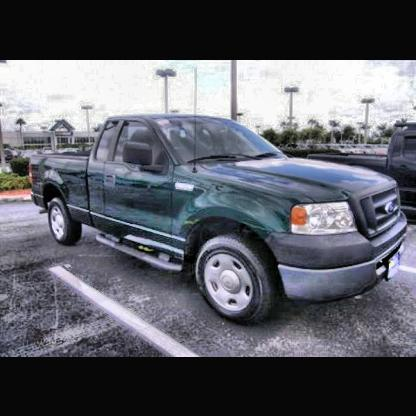Ford F-150 Regular Cab 2007: (28, 113, 410, 322)
